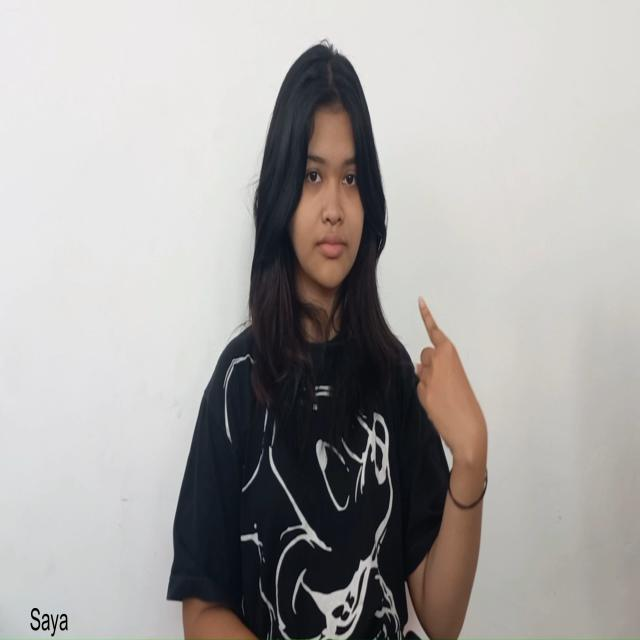Saya -BISINDO-: (412, 292, 490, 509)
